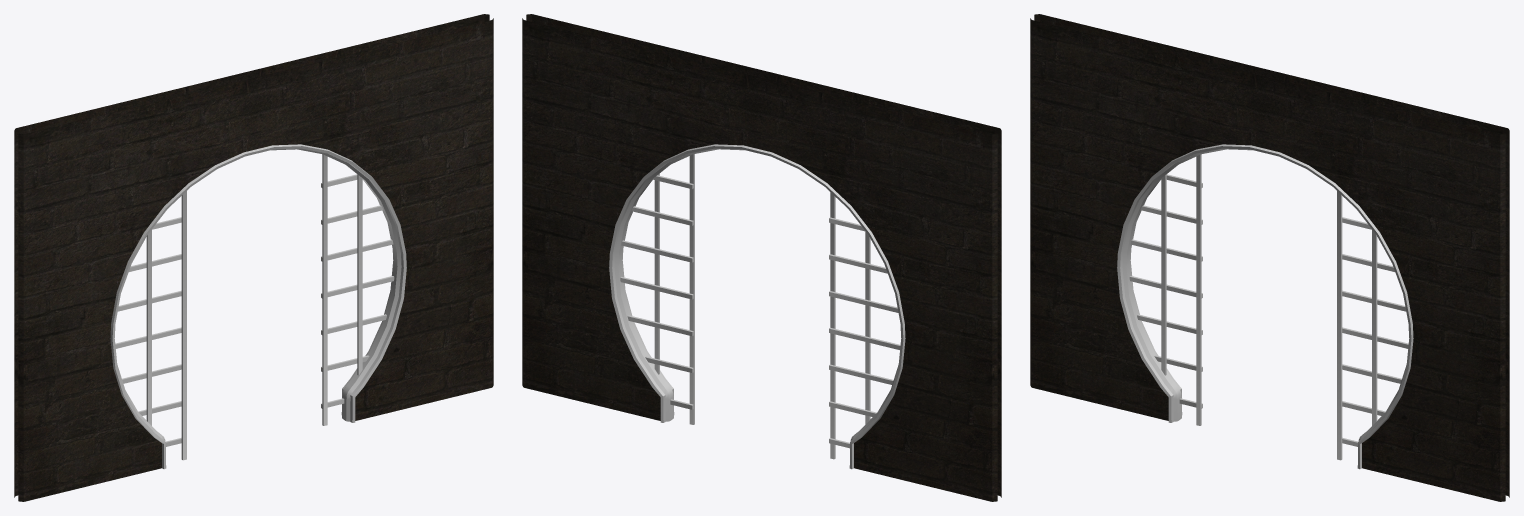
Rendered from wall_1_tunnel_hole_1.fbx.
3 renders of one model, left to right at view 1: azimuth 30°, elevation 25°; view 2: azimuth 150°, elevation 25°; view 3: azimuth 330°, elevation 25°, orthographic.
Parts seen in each view (by area): view 1: wall_1_tunnel_hole_1; view 2: wall_1_tunnel_hole_1; view 3: wall_1_tunnel_hole_1.
Part boxes in pixels (x1,y1,x2,y2): wall_1_tunnel_hole_1: (14, 14, 493, 501); wall_1_tunnel_hole_1: (522, 14, 1001, 501); wall_1_tunnel_hole_1: (1030, 14, 1509, 501).
Size of the model in its own units: 4.06 by 0.1697 by 3.
